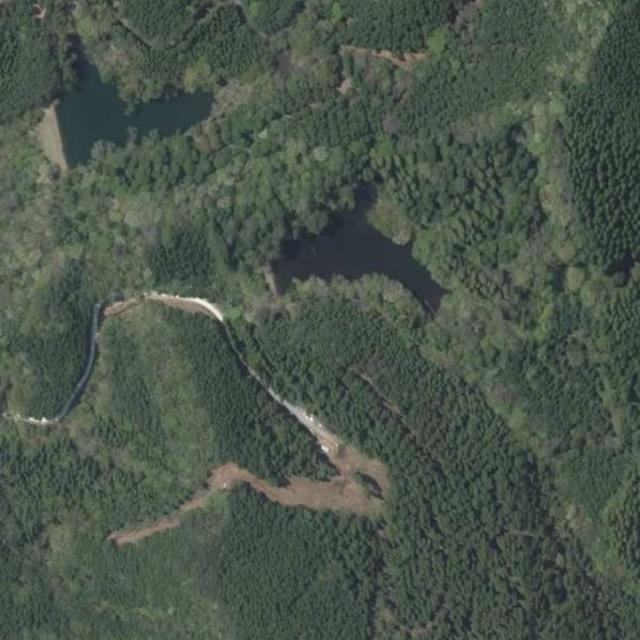landslide: (106, 358, 389, 547), (100, 293, 229, 336)
